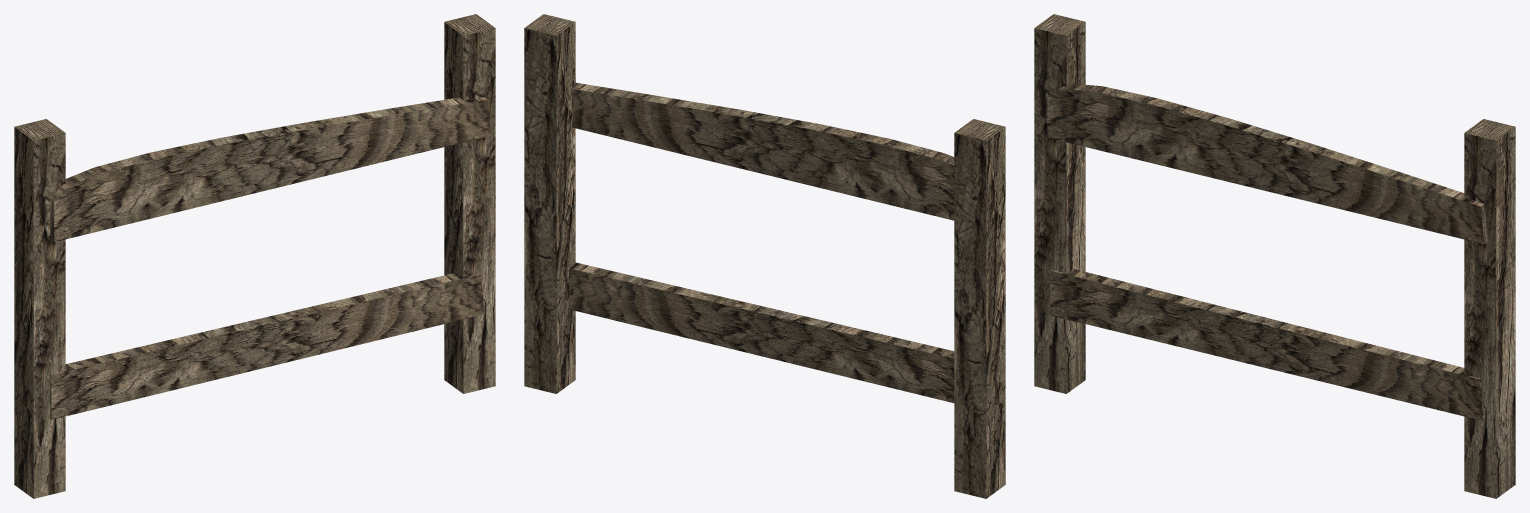
Rendered from FenceEnd.FBX.
3 renders of one model, left to right at view 1: azimuth 30°, elevation 25°; view 2: azimuth 150°, elevation 25°; view 3: azimuth 330°, elevation 25°, orthographic.
Visible parts, largest first — view 1: Line001, Line002, Box002, Box001; view 2: Line001, Line002, Box002, Box001; view 3: Line001, Line002, Box001, Box002.
Part boxes in pixels (box(x1,y1,x2,y2)): Line001: box(50, 97, 491, 242); Line002: box(50, 272, 484, 419); Box002: box(14, 119, 65, 498); Box001: box(444, 14, 495, 393); Line001: box(572, 83, 954, 220); Line002: box(569, 262, 954, 402); Box002: box(954, 119, 1005, 498); Box001: box(524, 14, 575, 393); Line001: box(1047, 83, 1488, 244); Line002: box(1050, 269, 1484, 420); Box001: box(1464, 119, 1515, 498); Box002: box(1034, 14, 1085, 393).
Size of the model in its own units: 69.39 by 51.4 by 6.
Materials: 1 (1 with a texture image).
